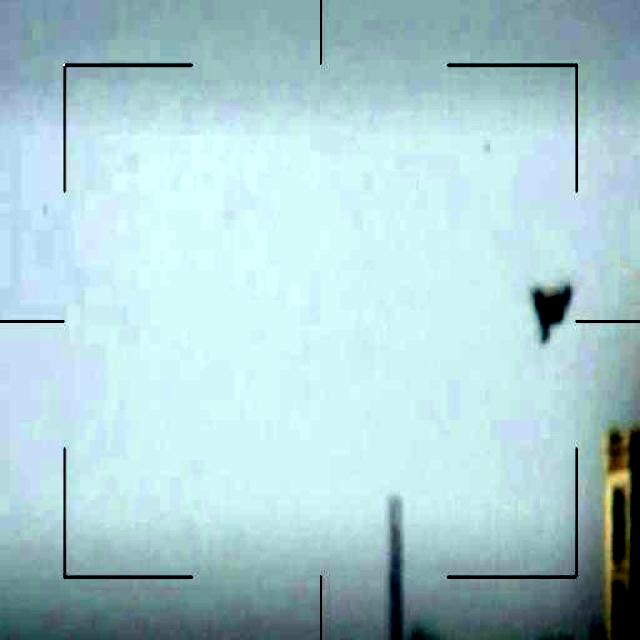bird: (526, 274, 578, 342)
